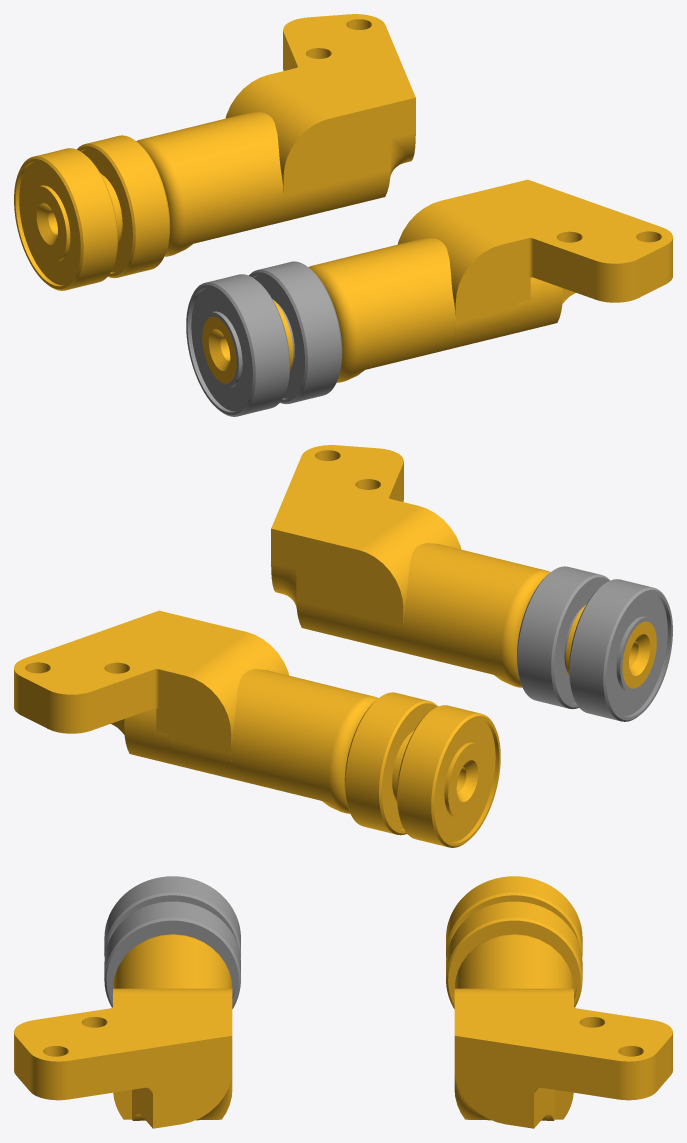
File: Tool.fbx
3 views of the same model, one above another, from view 1: azimuth 30°, elevation 25°; view 2: azimuth 150°, elevation 25°; view 3: azimuth 270°, elevation 25° (orthographic).
Visible parts, largest first — view 1: Body1 (×6); view 2: Body1 (×6); view 3: Body1 (×6).
Boxes of the visible parts, <box> form: Body1 (×6): <box>14,14,672,416</box>; Body1 (×6): <box>14,445,672,847</box>; Body1 (×6): <box>14,876,672,1128</box>.
Bounding box in the file's own units: 52.57 × 16.45 × 77.17.
